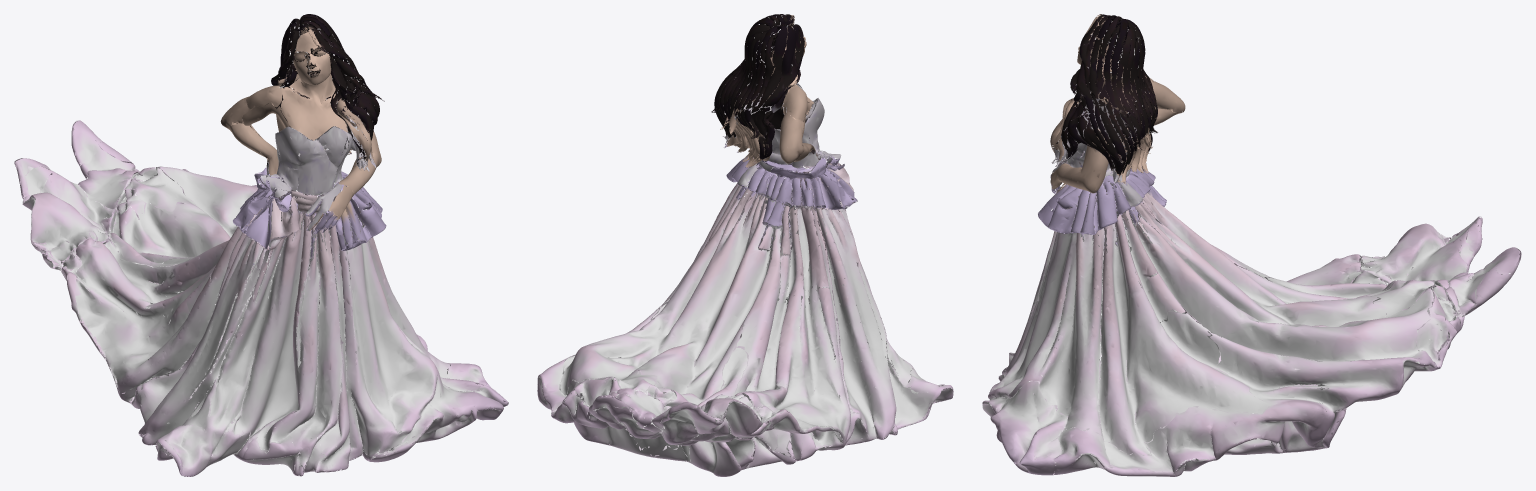
The model's file is figure.glb.
The picture shows the model from 3 angles, left to right: view 1: azimuth 30°, elevation 25°; view 2: azimuth 150°, elevation 25°; view 3: azimuth 270°, elevation 25°; orthographic projection. The views are drawn at different scales.
Visible parts, largest first — view 1: gown_figure; view 2: gown_figure; view 3: gown_figure.
Boxes of the visible parts, bbox=[...] form: gown_figure: bbox=[14, 14, 508, 476]; gown_figure: bbox=[537, 14, 953, 476]; gown_figure: bbox=[982, 14, 1521, 476].
Size of the model in its own units: 1.26 by 1.54 by 1.9.
